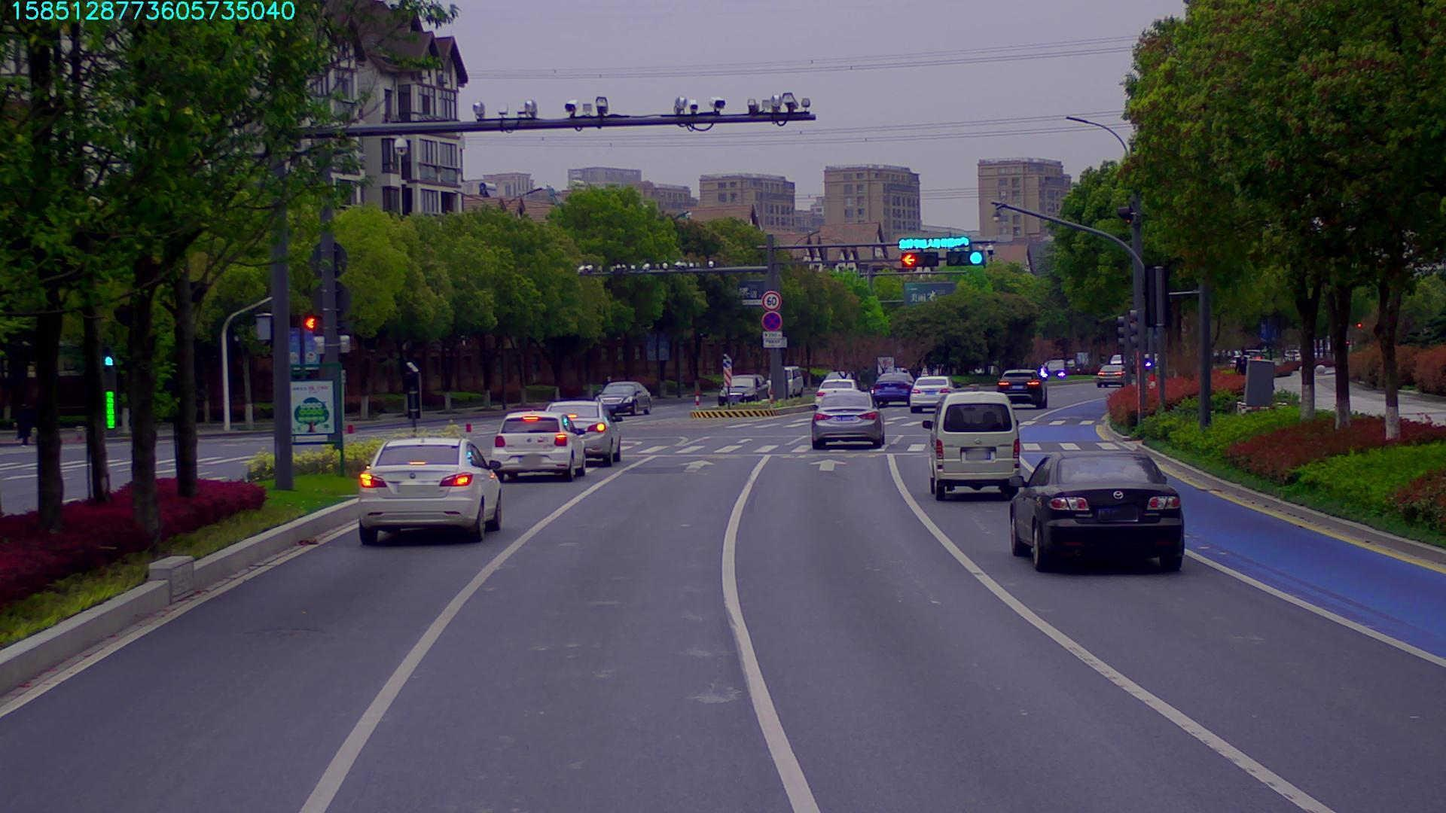green: (946, 252, 986, 266)
red: (900, 253, 931, 270)
wait_on: (897, 233, 971, 250)
